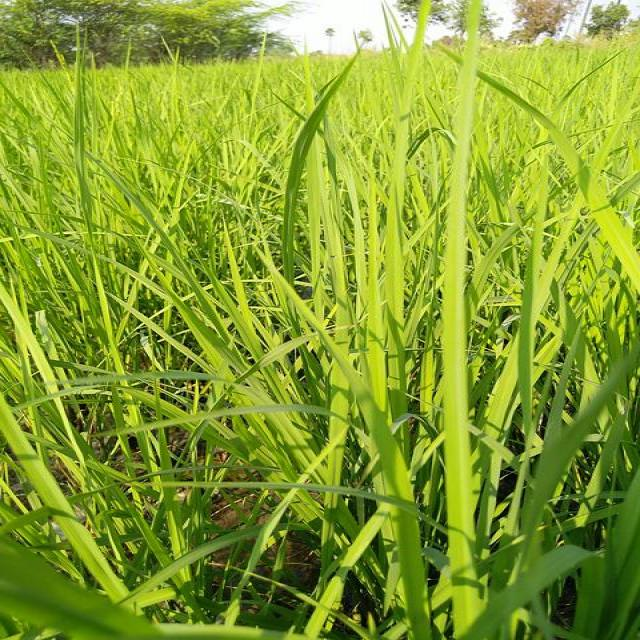Rice: (345, 152, 431, 636), (478, 70, 640, 288), (0, 396, 129, 594), (69, 30, 127, 371), (446, 82, 480, 640), (152, 252, 259, 385), (281, 434, 343, 640), (481, 541, 599, 640), (481, 288, 552, 440), (598, 469, 640, 640), (127, 404, 348, 435), (0, 221, 69, 293), (330, 249, 350, 402)
